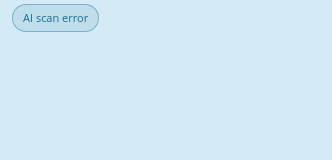
Test case: AI scan error button (UI) › surfaces gateway errors instead of a blank panel
Step 1. Click the button "AI scan error" → (56, 18), box [12,4,99,32]
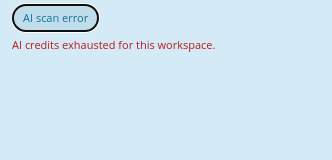
Result: the text "AI credits exhausted for this workspace." is shown at [12,37,216,52]
